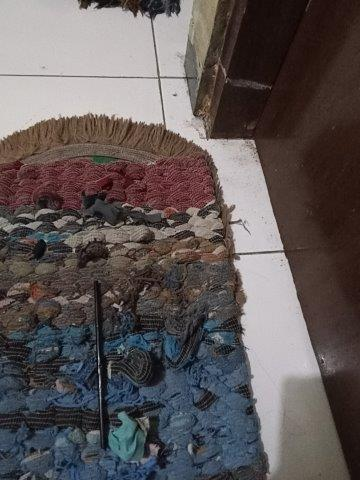sedotan: (93, 281, 108, 450)
